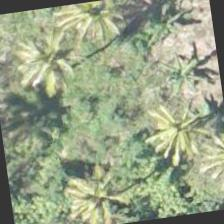Kelapa_Sawit: (0, 16, 99, 119), (125, 80, 223, 183), (33, 151, 134, 223), (51, 0, 148, 58), (180, 116, 223, 213)
